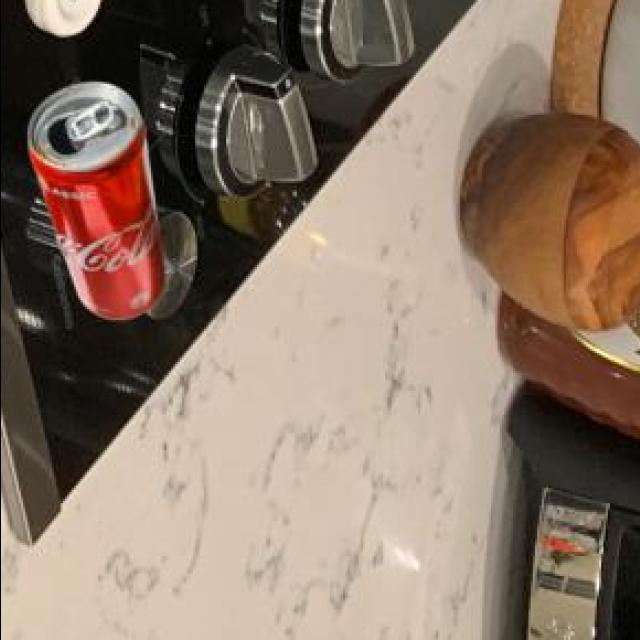logam: (30, 81, 167, 317)
